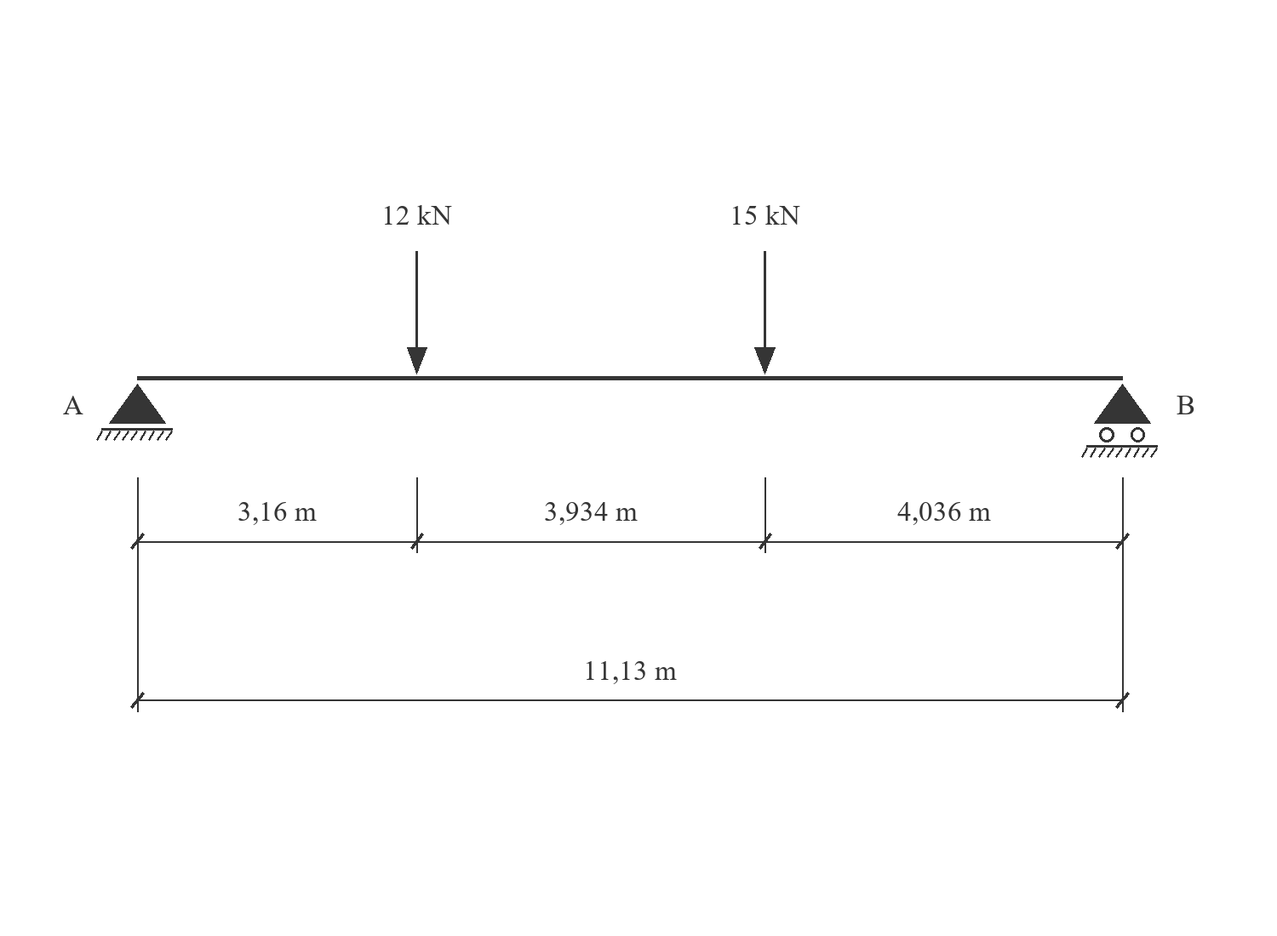pin_support: (96, 384, 173, 441)
point_load: (754, 251, 776, 374), (407, 251, 427, 374)
roller_support: (1081, 384, 1158, 458)
